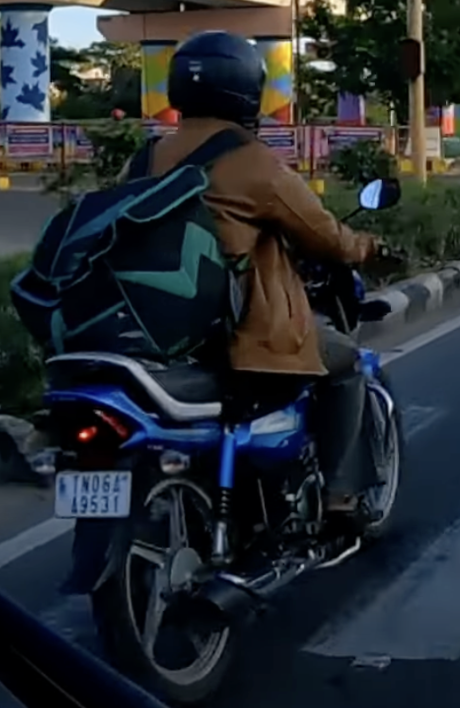motor: (28, 223, 405, 690)
number: (54, 470, 130, 518)
with helmet: (164, 31, 263, 122)
